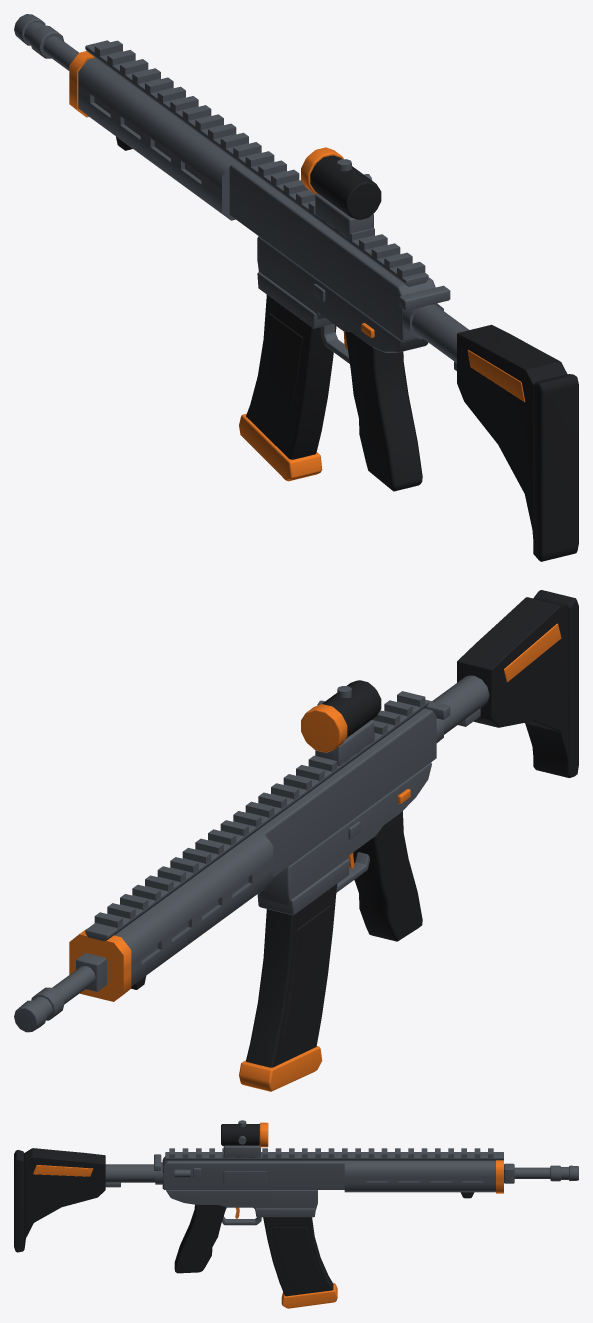
File: weapon_ar.glb
3 views of the same model, one above another, from view 1: azimuth 30°, elevation 25°; view 2: azimuth 150°, elevation 25°; view 3: azimuth 270°, elevation 25° (orthographic). The views are drawn at different scales.
Parts seen in each view (by area): view 1: Weapon_AR; view 2: Weapon_AR; view 3: Weapon_AR.
Boxes of the visible parts, x1,y1,x2,y2 form: Weapon_AR: [14, 14, 578, 561]; Weapon_AR: [14, 590, 578, 1091]; Weapon_AR: [14, 1120, 578, 1308].
Bounding box in the file's own units: 0.0498 × 0.3042 × 0.851.
